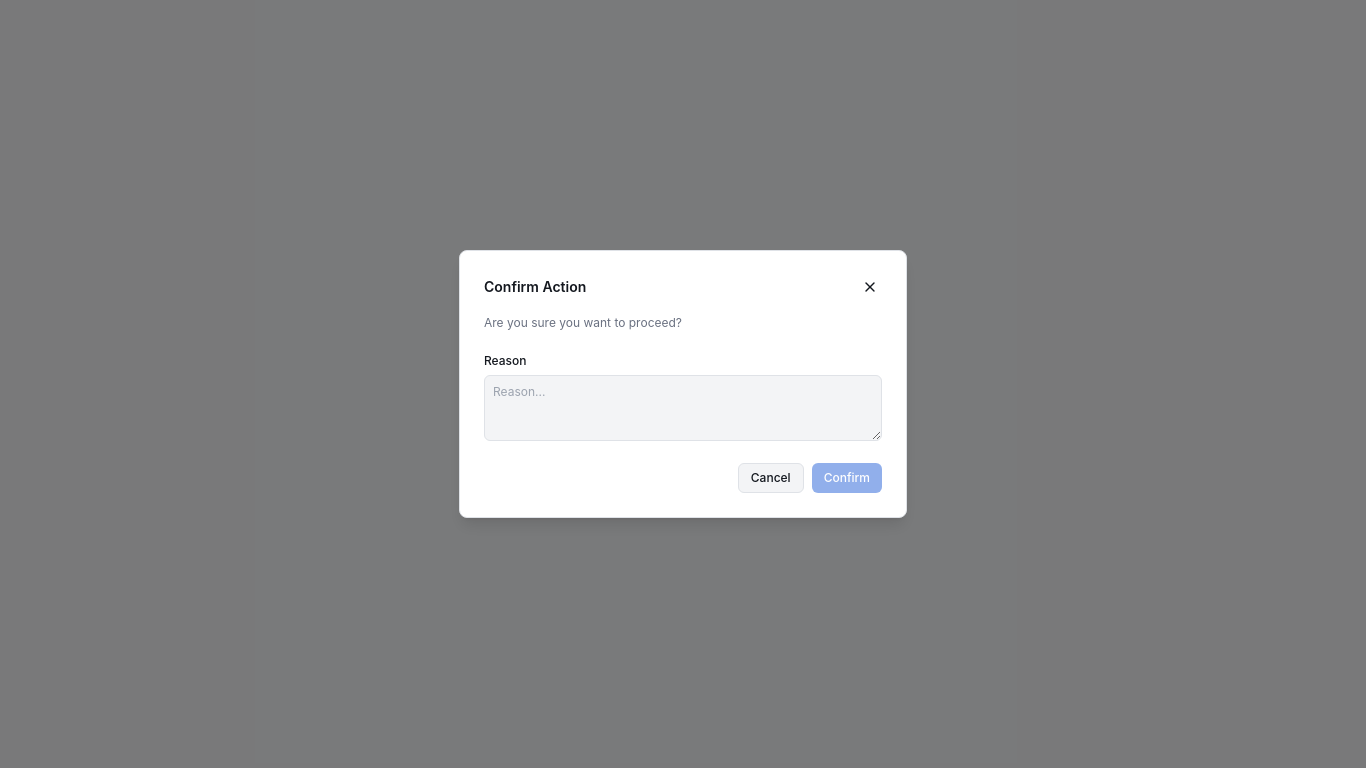
Test: ConfirmDialog › with requireReason › enables confirm button when reason is provided
In the text box with placeholder "Reason...": (683, 408) [484,375,882,441], type "Good reason"
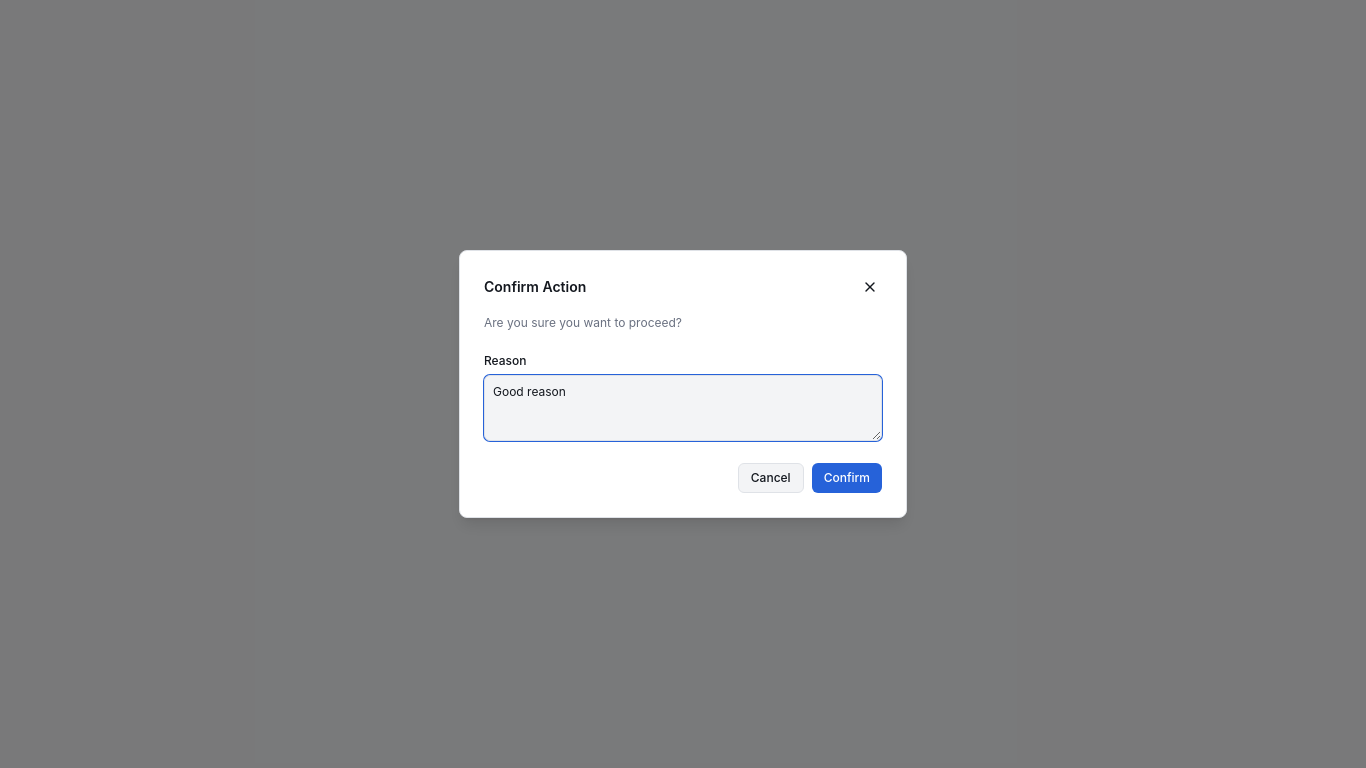
Result: the button "Confirm" is enabled at [812,463,882,493]
